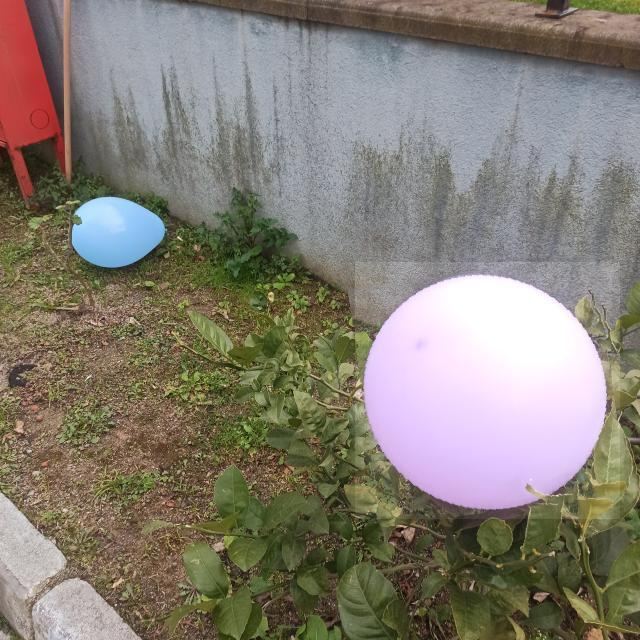balloon: (355, 262, 620, 519), (70, 196, 167, 268)
